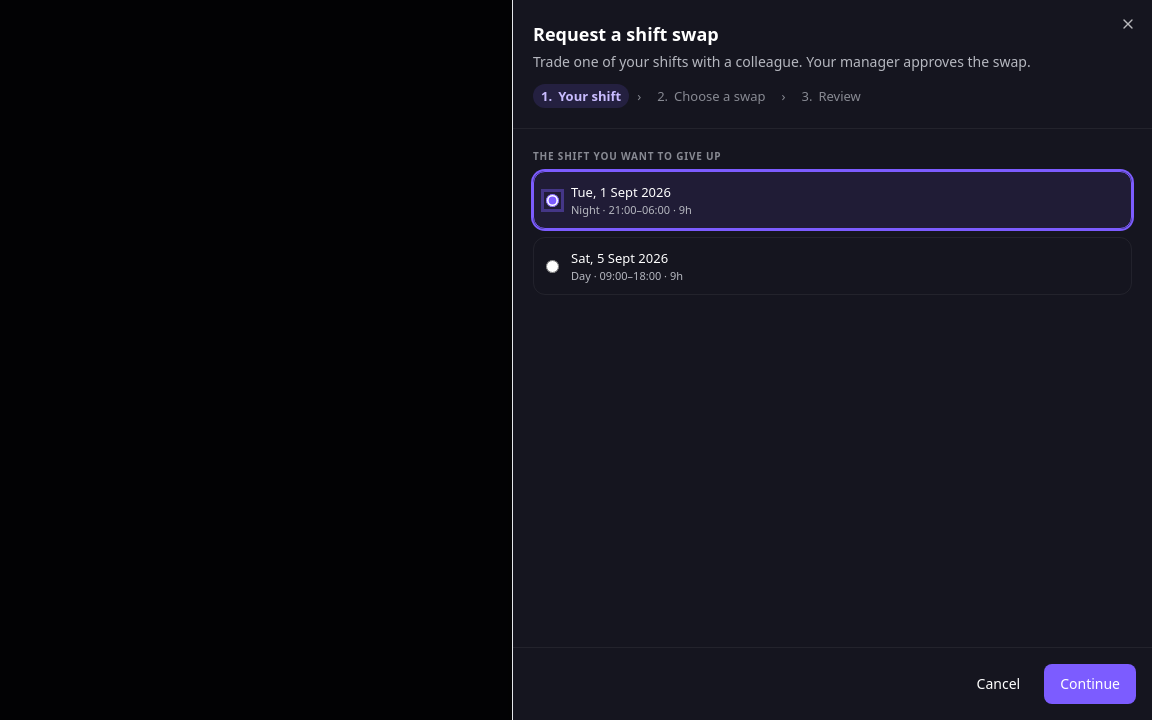
Test: SwapRequestDrawer › loads further pages incrementally instead of all at once
The width and height of the screenshot is (1152, 720).
Click the button "Continue" at (1090, 684), box [1044,664,1136,704]
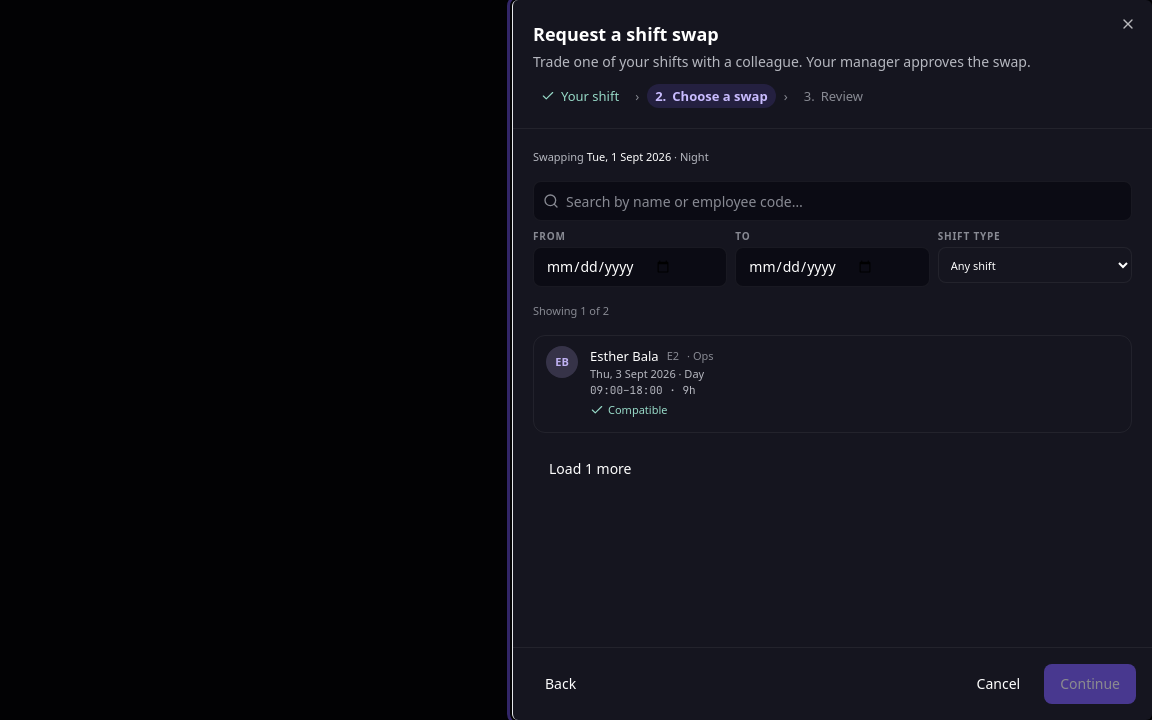
Click the button "Load 1 more" at (590, 469), box [533,449,648,489]
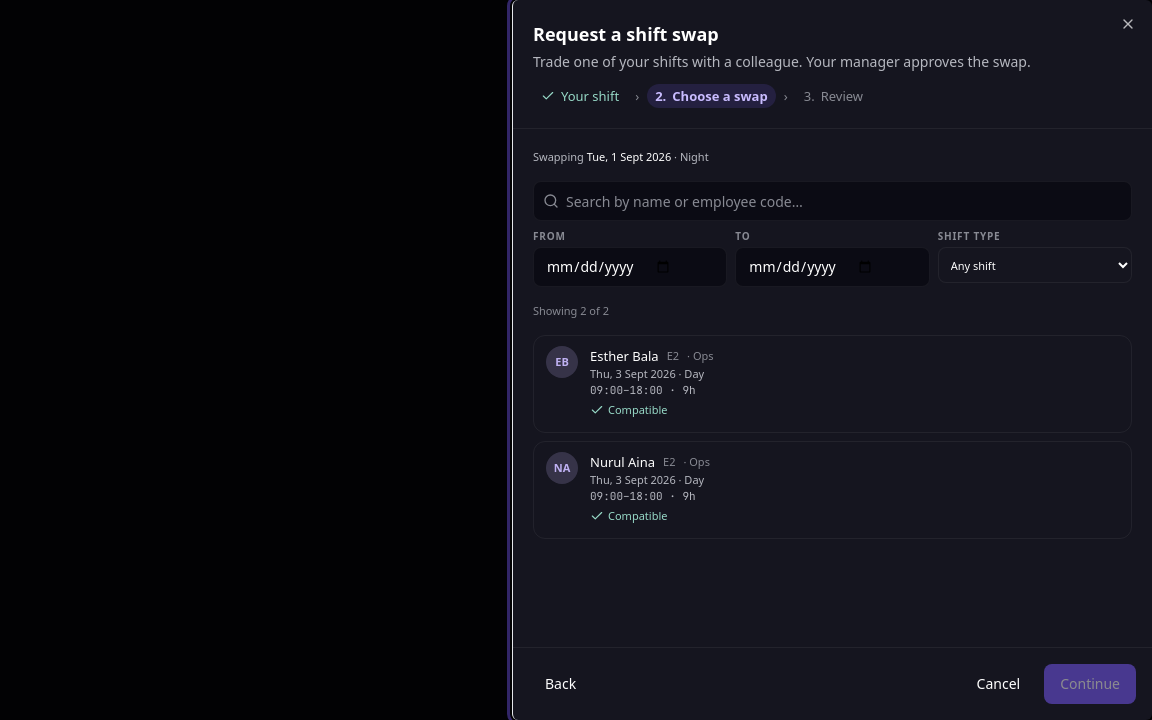
Expected: the text "Esther Bala" is shown, [590,346,659,366]
Expected: the text "Nurul Aina" is shown, [590,452,655,472]
